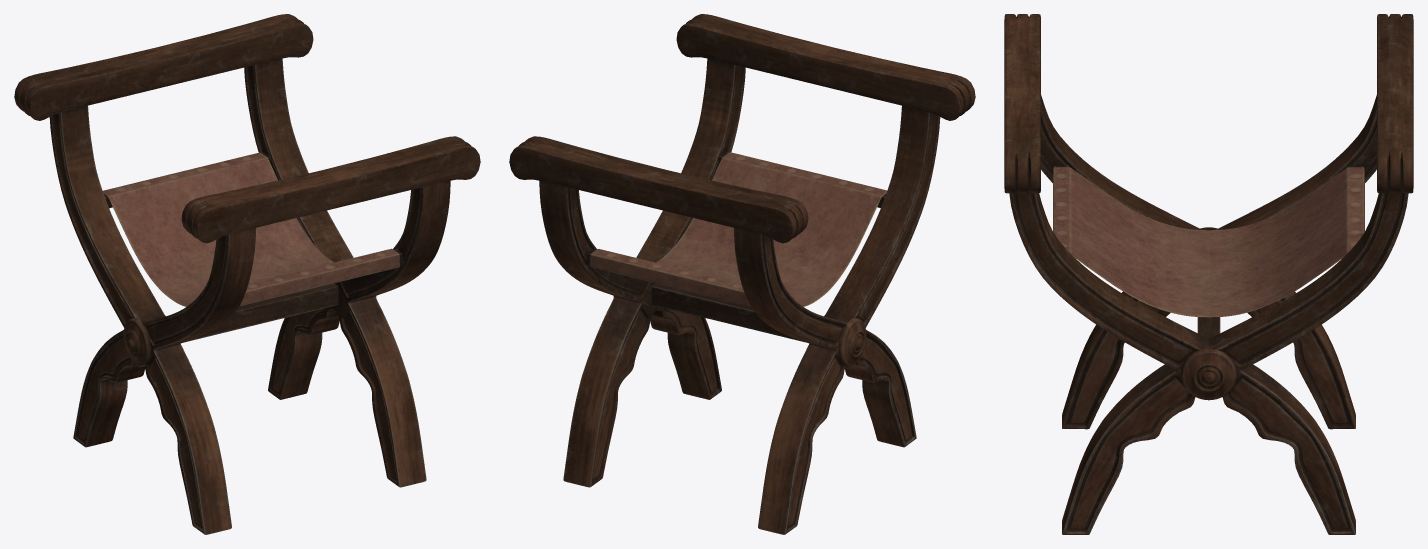
Rendered from curule.glb.
The picture shows the model from 3 angles, left to right: view 1: azimuth 30°, elevation 25°; view 2: azimuth 150°, elevation 25°; view 3: azimuth 270°, elevation 25°; orthographic projection. The views are drawn at different scales.
Parts seen in each view (by area): view 1: _gltfNode_1; view 2: _gltfNode_1; view 3: _gltfNode_1.
Part boxes in pixels (x1=…): _gltfNode_1: x1=14, y1=14, x2=480, y2=534; _gltfNode_1: x1=509, y1=14, x2=975, y2=534; _gltfNode_1: x1=1004, y1=14, x2=1413, y2=534.
Size of the model in its own units: 0.7769 by 0.9107 by 0.8678.
Materials: 1 (1 with a texture image).
